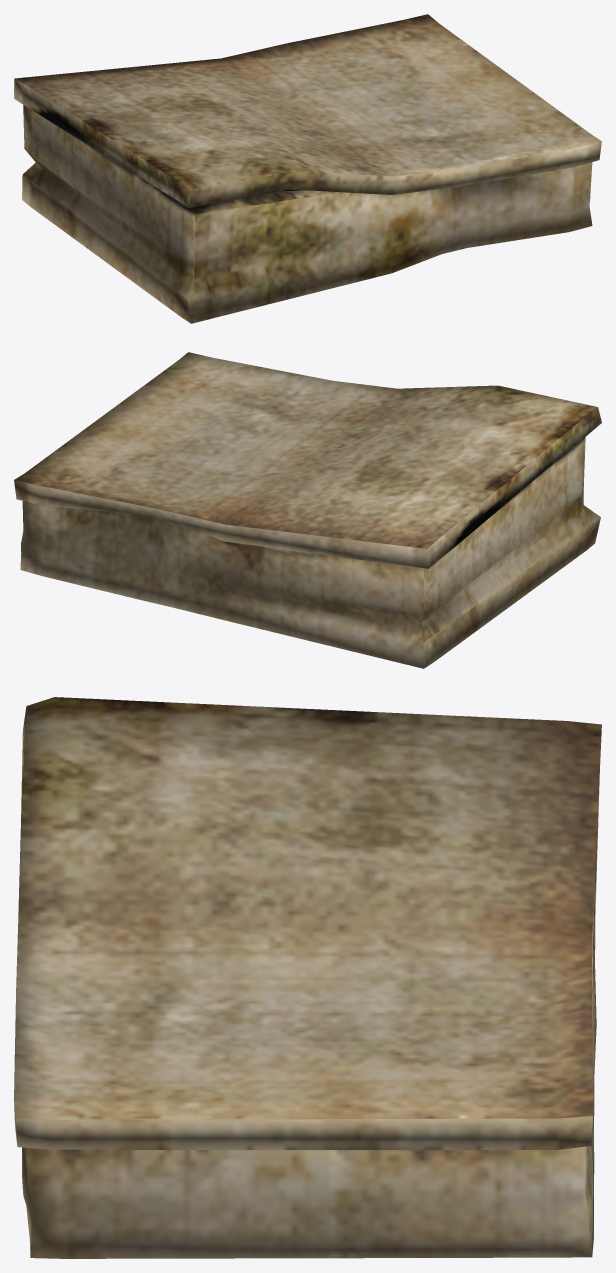
The model's file is cardboard03.DAE.
3 renders of one model, top to bottom at view 1: azimuth 30°, elevation 25°; view 2: azimuth 150°, elevation 25°; view 3: azimuth 270°, elevation 25°, orthographic. The views are drawn at different scales.
Parts seen in each view (by area): view 1: Group1; view 2: Group1; view 3: Group1.
Boxes of the visible parts, x1,y1,x2,y2 form: Group1: (14, 14, 601, 323); Group1: (14, 352, 601, 668); Group1: (14, 697, 601, 1258).
Bounding box in the file's own units: 24.17 × 7.75 × 17.83.
